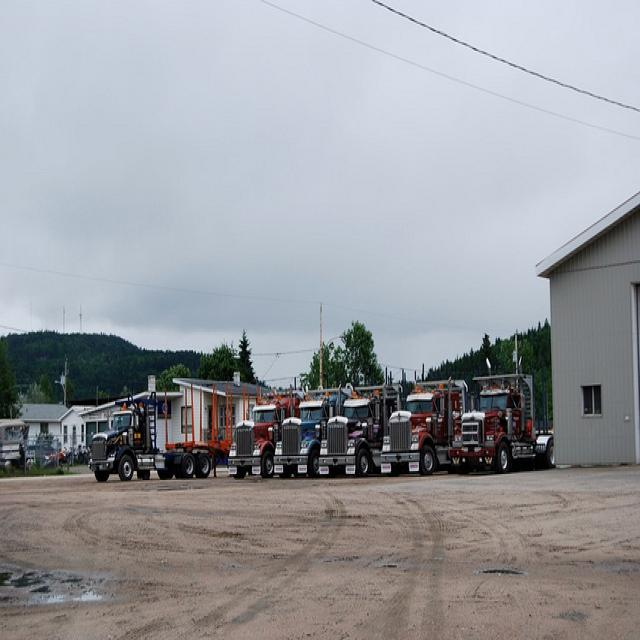Vehicle: (450, 330, 556, 472), (86, 389, 211, 484), (380, 376, 468, 476), (319, 384, 403, 479), (226, 385, 302, 479), (273, 383, 345, 478)
